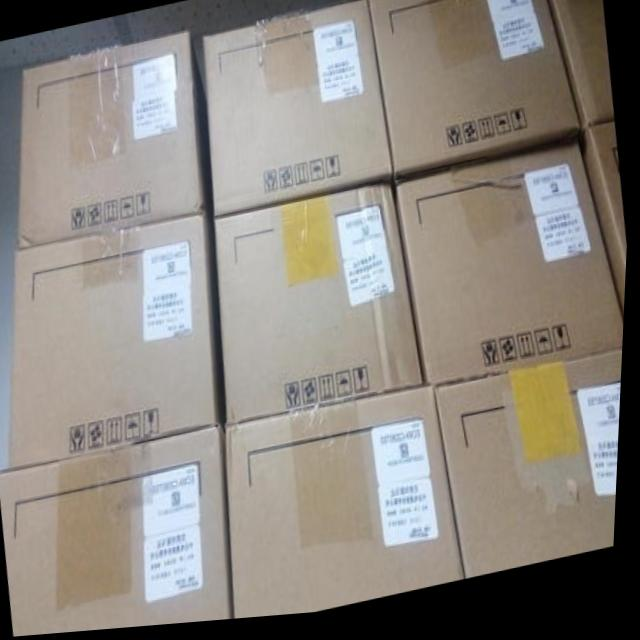box: (396, 153, 627, 393), (231, 393, 472, 623), (14, 216, 230, 471), (216, 188, 429, 429), (3, 427, 240, 637), (204, 5, 396, 225), (439, 360, 626, 585), (21, 36, 217, 249), (367, 0, 582, 187), (543, 0, 615, 139), (584, 129, 629, 327)
